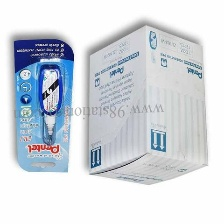book: (84, 21, 209, 188), (11, 36, 75, 176)
correction_fluid: (36, 62, 63, 147)
